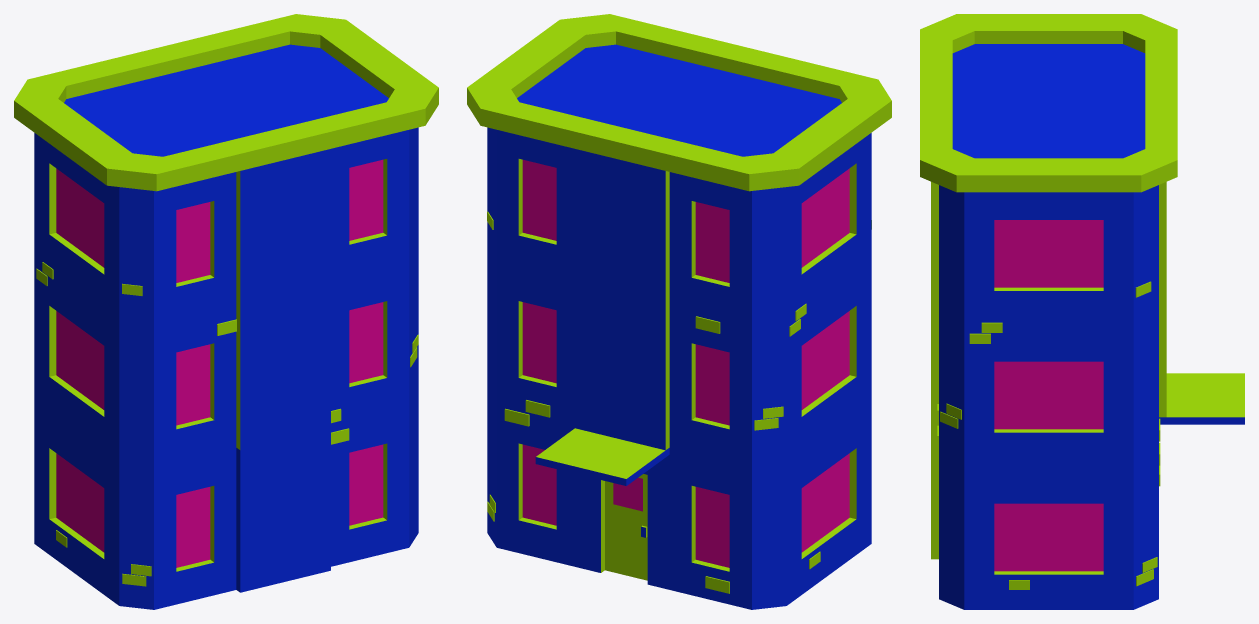
File: house_4.fbx
3 renders of one model, left to right at view 1: azimuth 30°, elevation 25°; view 2: azimuth 150°, elevation 25°; view 3: azimuth 270°, elevation 25°, orthographic.
Visible parts, largest first — view 1: Building_7; view 2: Building_7; view 3: Building_7.
Part boxes in pixels (bbox=[...]): Building_7: bbox=[14, 14, 438, 609]; Building_7: bbox=[467, 14, 891, 609]; Building_7: bbox=[920, 14, 1244, 609].
Size of the model in its own units: 1018 by 1301 by 865.
